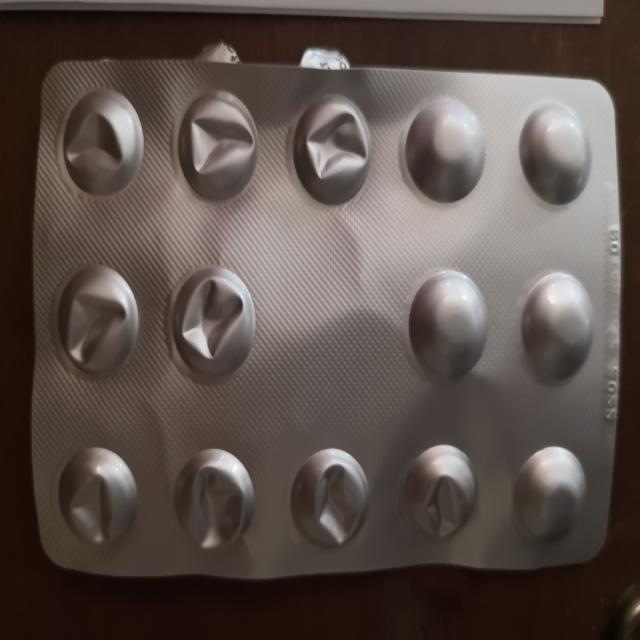Empty: (53, 260, 145, 386), (164, 264, 259, 386), (59, 82, 147, 203), (175, 86, 262, 207), (53, 438, 140, 554), (168, 442, 255, 558), (290, 92, 374, 210), (288, 444, 374, 553), (396, 438, 481, 548)
Pill: (402, 265, 491, 389), (518, 267, 602, 386), (401, 90, 486, 207), (515, 92, 595, 209), (508, 442, 590, 551)
